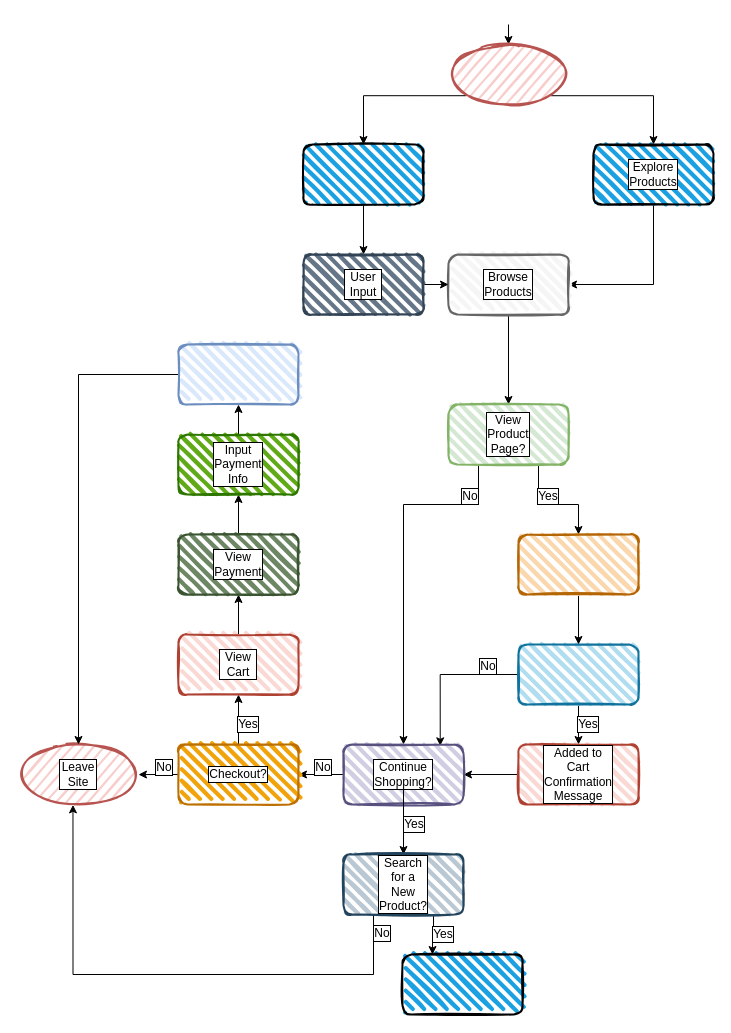
Image size: 731x1033. Some labels were removed from this diagram. The shapes that lost their labels are listed below. From the top down, each one's centre as x and y in pixels, then its label:
pixel 508 74: Enter Site
pixel 363 174: Search Products
pixel 238 374: Order Confirmation + Email
pixel 578 564: Product Page
pixel 578 674: Add to Cart?
pixel 462 984: Return to Start
